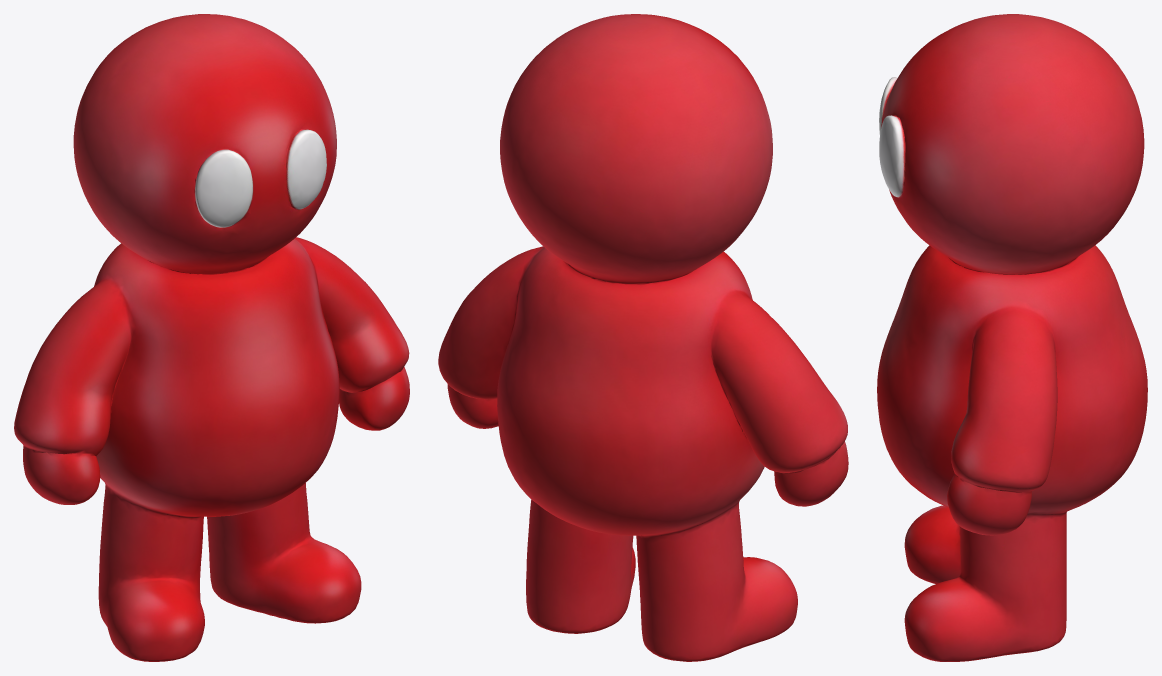
Rendered from js-rubber-original.glb.
The picture shows the model from 3 angles, left to right: view 1: azimuth 30°, elevation 25°; view 2: azimuth 150°, elevation 25°; view 3: azimuth 270°, elevation 25°; orthographic projection. The views are drawn at different scales.
Visible parts, largest first — view 1: Mesh; view 2: Mesh; view 3: Mesh.
Part boxes in pixels (box(x1,y1,x2,y2)): Mesh: box(14, 14, 409, 661); Mesh: box(438, 14, 848, 661); Mesh: box(877, 14, 1147, 661).
Size of the model in its own units: 1.31 by 1.9 by 0.8026.
1 material, 1 textured.
